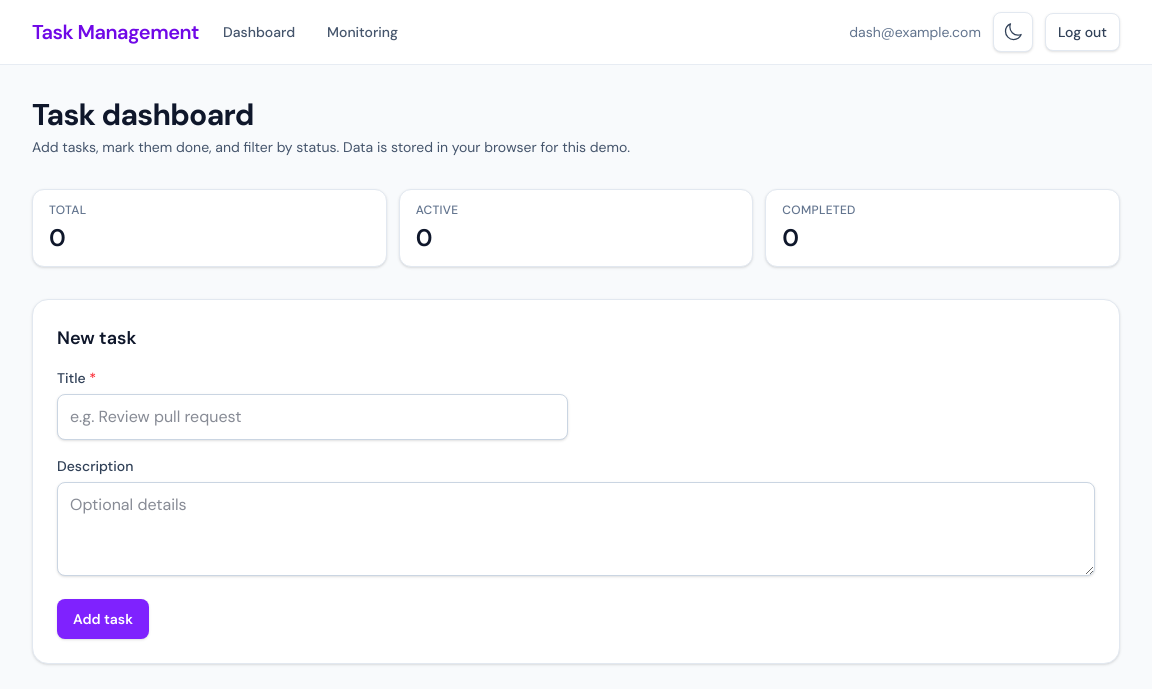
it: DashboardPage (local storage) › adds a task and updates stats
Type "First task" into the field with test id "task-title-input".
click(312, 417); type("First task")  # box [57,394,568,440]
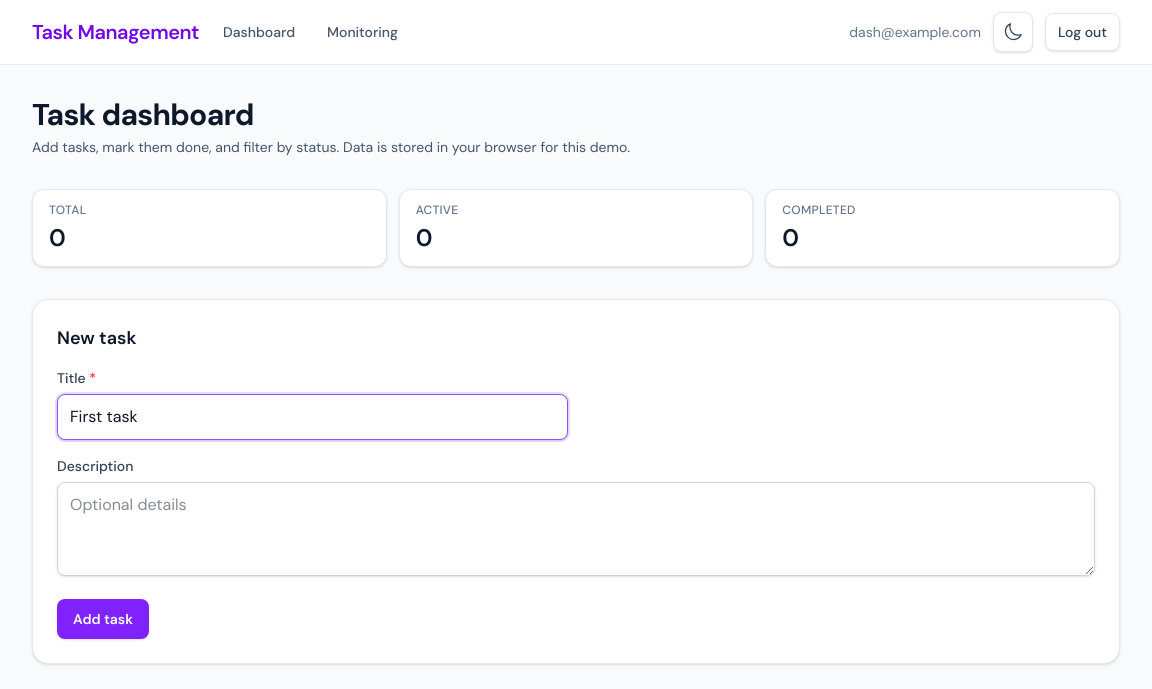
Type "Details" into the text box with test id "task-description-input".
click(576, 529); type("Details")  # box [57,482,1095,576]
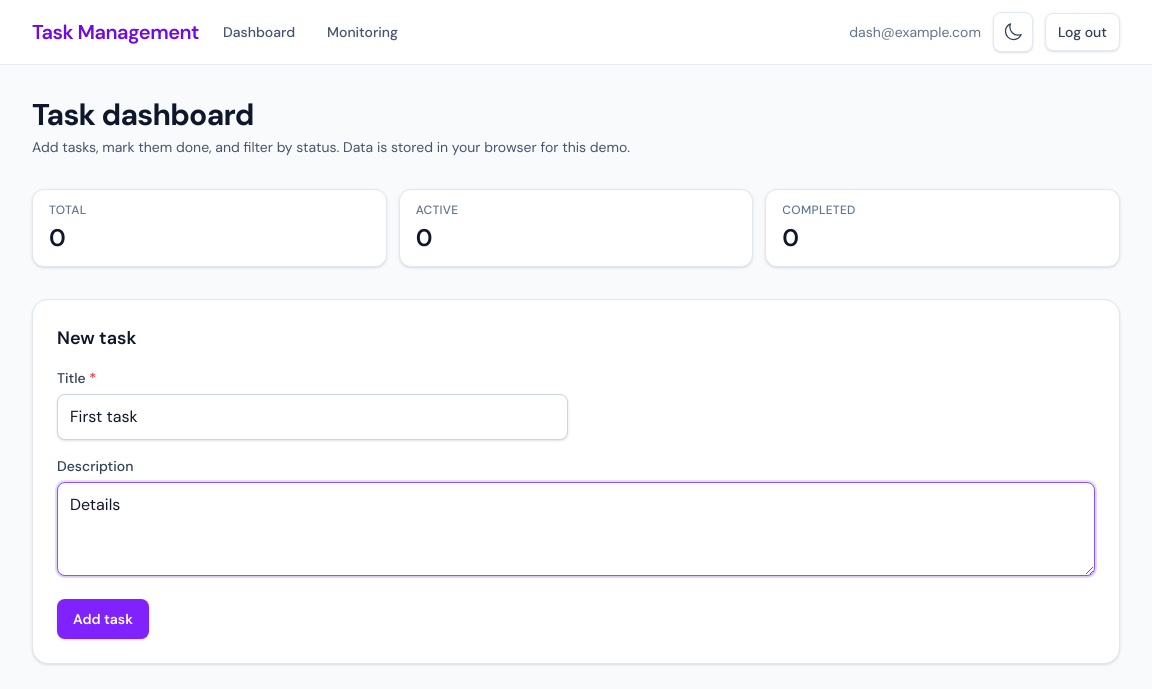
Click the button with test id "task-add-submit".
click(103, 619)  # box [57,599,149,639]
(page scrolled)
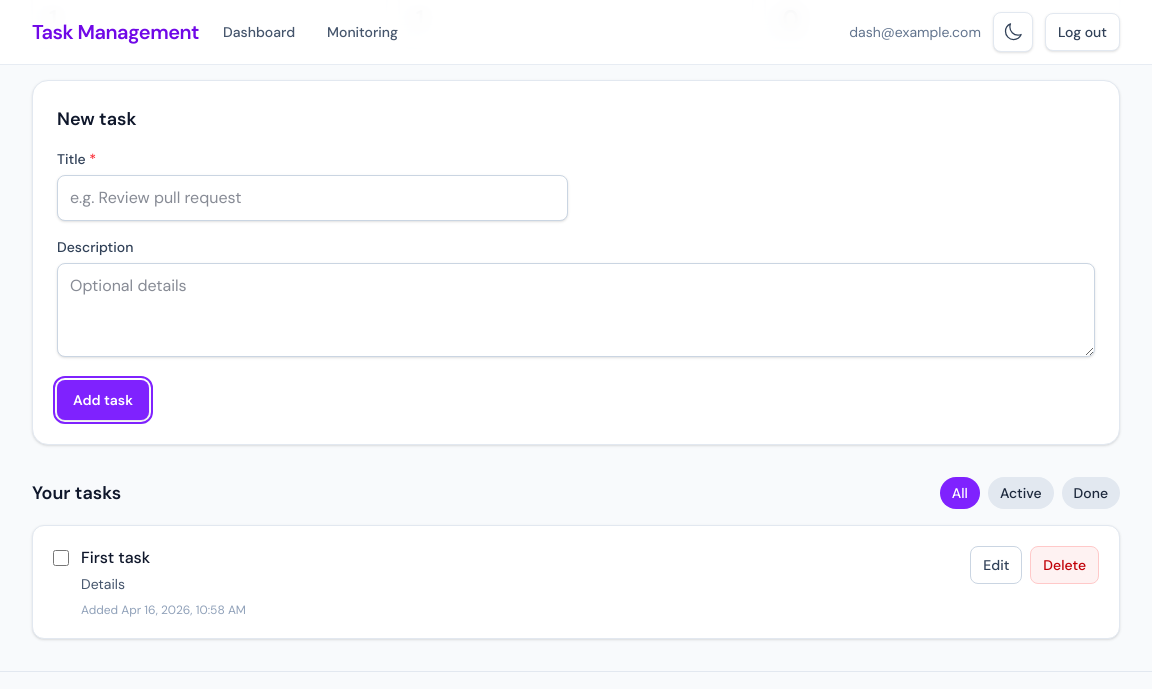
Expected: the element with test id "stat-total" shows "1", [49,3,57,34]
Now the element with test id "task-card" shows "First task", box [81,547,150,568]
